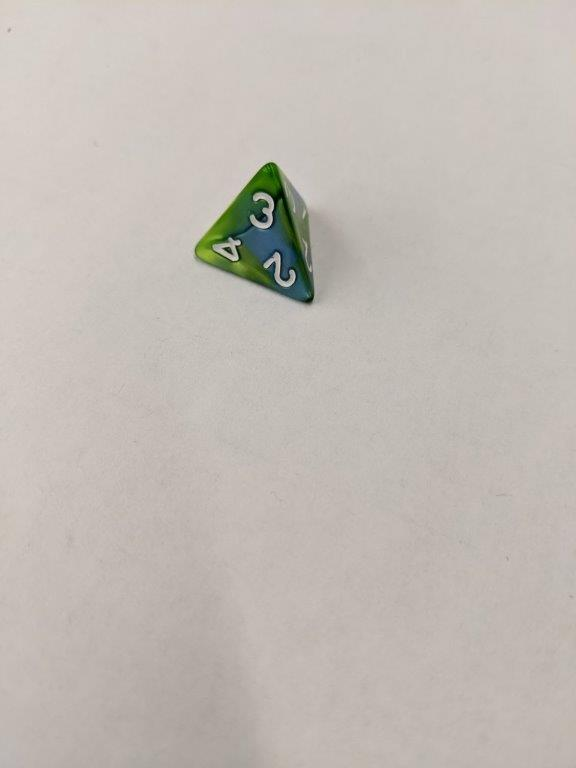d4-3: (190, 156, 318, 314)
